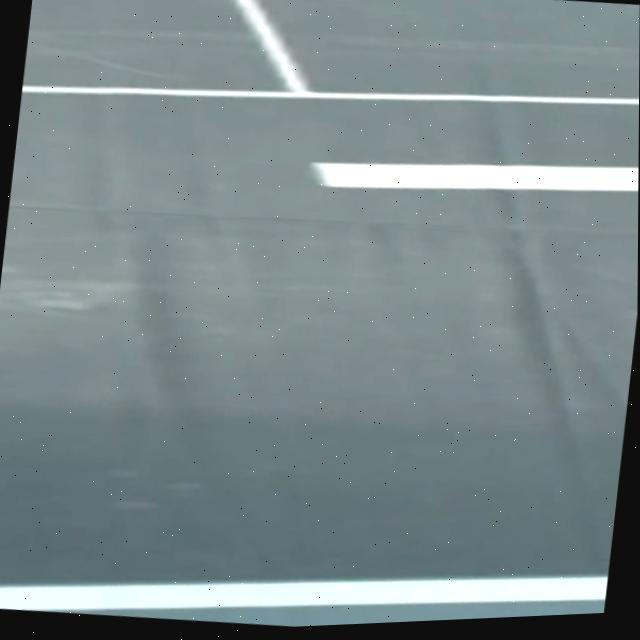center: (312, 162, 639, 191)
left: (0, 575, 608, 611)
